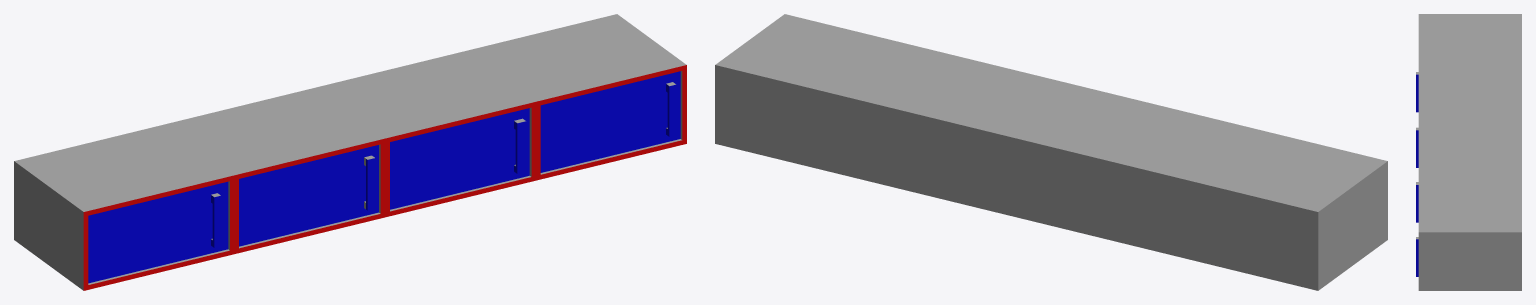
File: KitchenHighCab.fbx
The picture shows the model from 3 angles, left to right: view 1: azimuth 30°, elevation 25°; view 2: azimuth 150°, elevation 25°; view 3: azimuth 270°, elevation 25°; orthographic projection. The views are drawn at different scales.
Parts seen in each view (by area): view 1: HighCan; view 2: HighCan; view 3: HighCan.
Boxes of the visible parts, left/top/right/bottom form: HighCan: left=14, top=14, right=686, bottom=290; HighCan: left=715, top=14, right=1387, bottom=290; HighCan: left=1416, top=14, right=1521, bottom=290.
Bounding box in the file's own units: 400 × 50 × 82.
